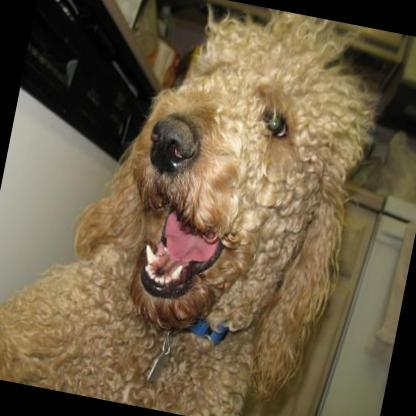standard_poodle: (0, 0, 394, 416)
